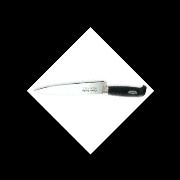k1: (34, 80, 110, 99)
